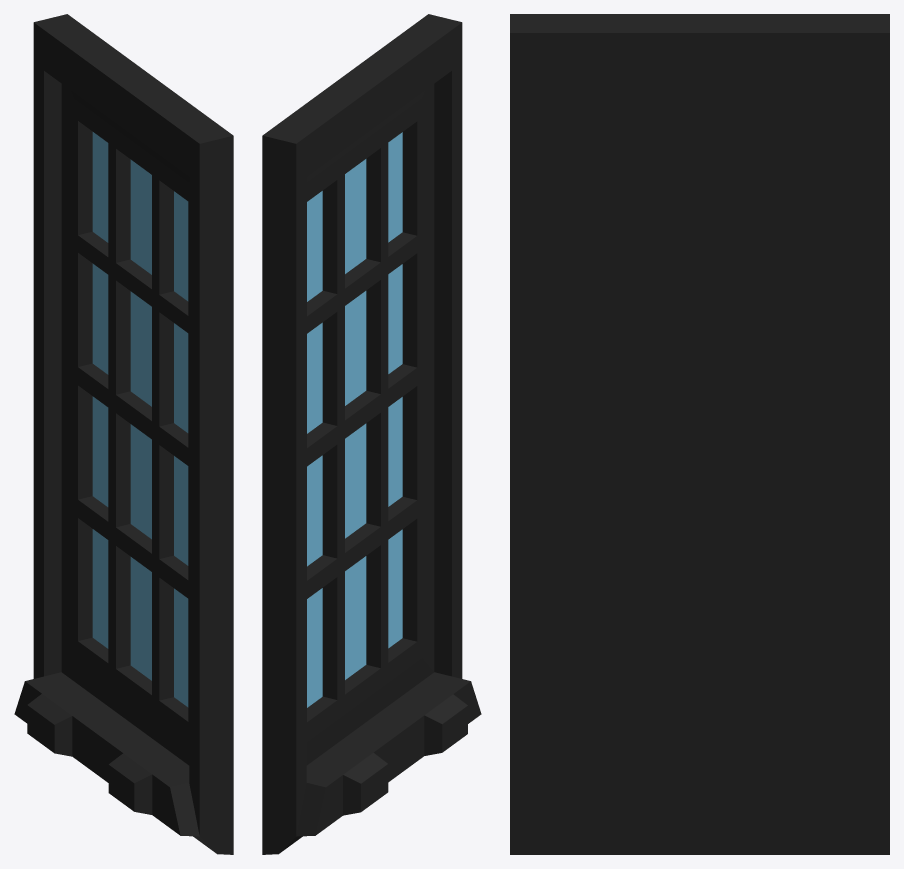
Rendered from M_WindowLong_D_VR.fbx.
The picture shows the model from 3 angles, left to right: view 1: azimuth 30°, elevation 25°; view 2: azimuth 150°, elevation 25°; view 3: azimuth 270°, elevation 25°; orthographic projection. The views are drawn at different scales.
Visible parts, largest first — view 1: Box001; view 2: Box001; view 3: Box001.
Boxes of the visible parts, bbox=[...] form: Box001: bbox=[14, 14, 233, 854]; Box001: bbox=[262, 14, 481, 854]; Box001: bbox=[510, 14, 889, 854].
Bounding box in the file's own units: 0.3327 × 3.3 × 1.38.
